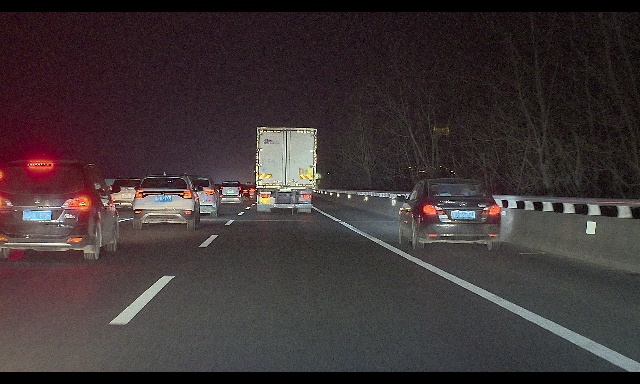car: (0, 159, 120, 261), (396, 178, 501, 251), (131, 172, 204, 230), (178, 173, 220, 218), (108, 178, 145, 209), (218, 181, 244, 206), (232, 184, 251, 201)
truck: (254, 127, 317, 214)
